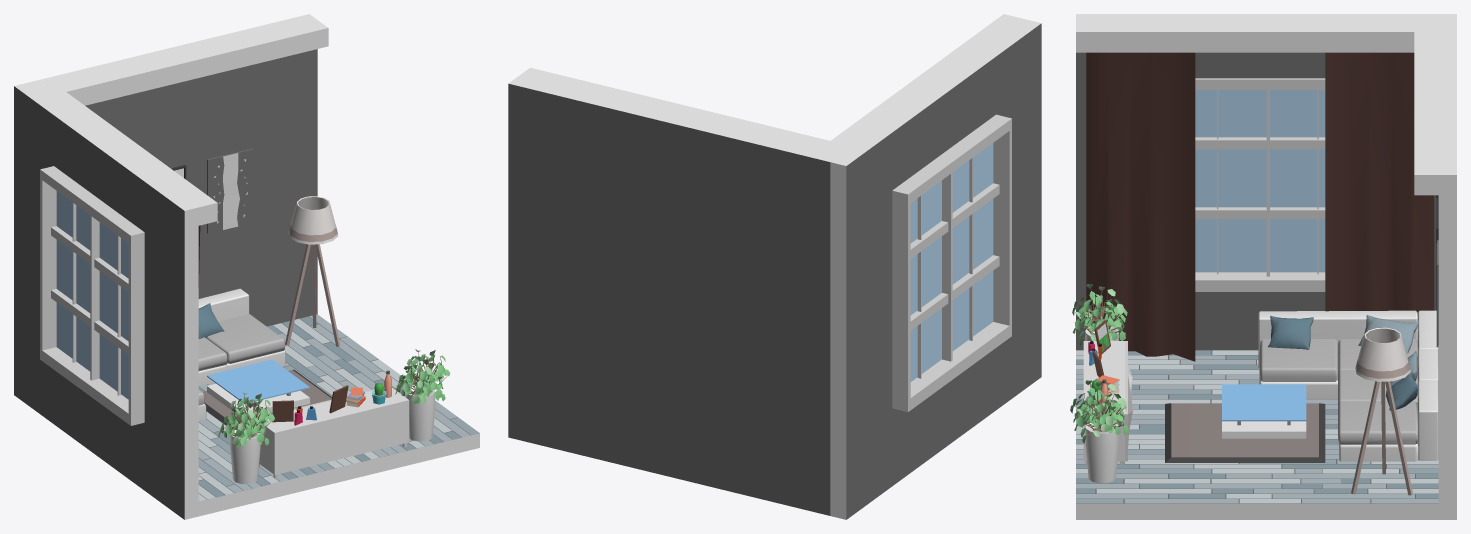
The model's file is room_7.glb.
The picture shows the model from 3 angles, left to right: view 1: azimuth 30°, elevation 25°; view 2: azimuth 150°, elevation 25°; view 3: azimuth 270°, elevation 25°; orthographic projection. The views are drawn at different scales.
Parts seen in each view (by area): view 1: Walls_046.002, window_018.002, Walls_046.003, floor_002.001, Walls_046.004, shelf_059.002, Walls_005.002, Walls_046.001, Walls_046.006, sofa_027.001, Walls_046.005, Walls_005.001 (+6 smaller); view 2: Walls_046.002, window_018.002, Walls_046.004, Walls_046.003, Walls_046.006, Walls_046.005, Walls_005.001, Walls_005.002; view 3: Curtains_019.001, window_018.002, Curtains_019.002, floor_002.001, sofa_027.001, Walls_005.001, Walls_046.001, Walls_046.002, carpet_001.001, Walls_046.006, Walls_046.005, coffee_table_024.001 (+7 smaller).
Boxes of the visible parts, x1=… form: Walls_046.002: x1=28, y1=14, x2=317, y2=326; window_018.002: x1=40, y1=166, x2=144, y2=425; Walls_046.003: x1=144, y1=178, x2=198, y2=519; floor_002.001: x1=198, y1=314, x2=479, y2=501; Walls_046.004: x1=14, y1=82, x2=67, y2=424; shelf_059.002: x1=257, y1=387, x2=409, y2=478; Walls_005.002: x1=56, y1=20, x2=328, y2=105; Walls_046.001: x1=198, y1=316, x2=479, y2=516; Walls_046.006: x1=54, y1=112, x2=157, y2=231; sofa_027.001: x1=198, y1=288, x2=285, y2=420; Walls_046.005: x1=54, y1=370, x2=143, y2=489; Walls_005.001: x1=36, y1=84, x2=217, y2=225; Walls_046.002: x1=508, y1=77, x2=839, y2=515; window_018.002: x1=892, y1=114, x2=1011, y2=411; Walls_046.004: x1=830, y1=128, x2=892, y2=519; Walls_046.003: x1=979, y1=19, x2=1041, y2=410; Walls_046.006: x1=877, y1=53, x2=995, y2=189; Walls_046.005: x1=893, y1=349, x2=995, y2=485; Walls_005.001: x1=818, y1=14, x2=1024, y2=155; Walls_005.002: x1=518, y1=67, x2=829, y2=149; Curtains_019.001: x1=1086, y1=52, x2=1195, y2=361; window_018.002: x1=1195, y1=78, x2=1325, y2=291; Curtains_019.002: x1=1325, y1=52, x2=1434, y2=312; floor_002.001: x1=1076, y1=350, x2=1438, y2=503; sofa_027.001: x1=1258, y1=310, x2=1438, y2=461; Walls_005.001: x1=1076, y1=21, x2=1438, y2=52; Walls_046.001: x1=1076, y1=350, x2=1438, y2=519; Walls_046.002: x1=1438, y1=21, x2=1456, y2=519; carpet_001.001: x1=1165, y1=403, x2=1325, y2=462; Walls_046.006: x1=1166, y1=14, x2=1366, y2=78; Walls_046.005: x1=1195, y1=292, x2=1325, y2=350; coffee_table_024.001: x1=1222, y1=384, x2=1306, y2=438.
Bounding box in the file's own units: 4.4 × 4.2 × 4.27.
Materials: 1 (1 with a texture image).
